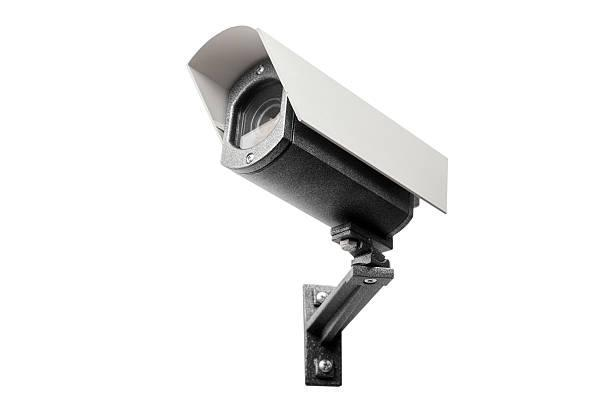camera: (164, 7, 478, 298)
